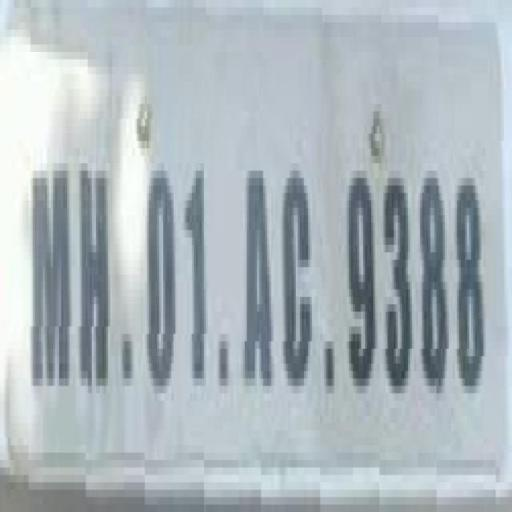number plate: (20, 0, 511, 497)
